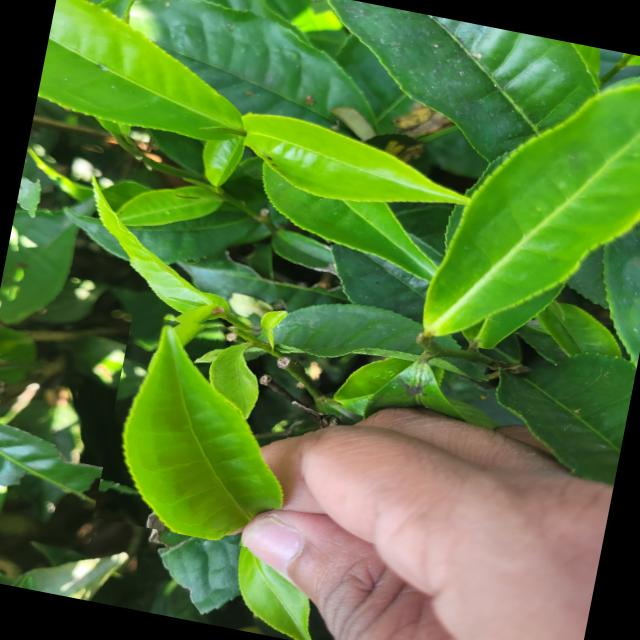Catagory A(1-2 days): (93, 302, 331, 556)
